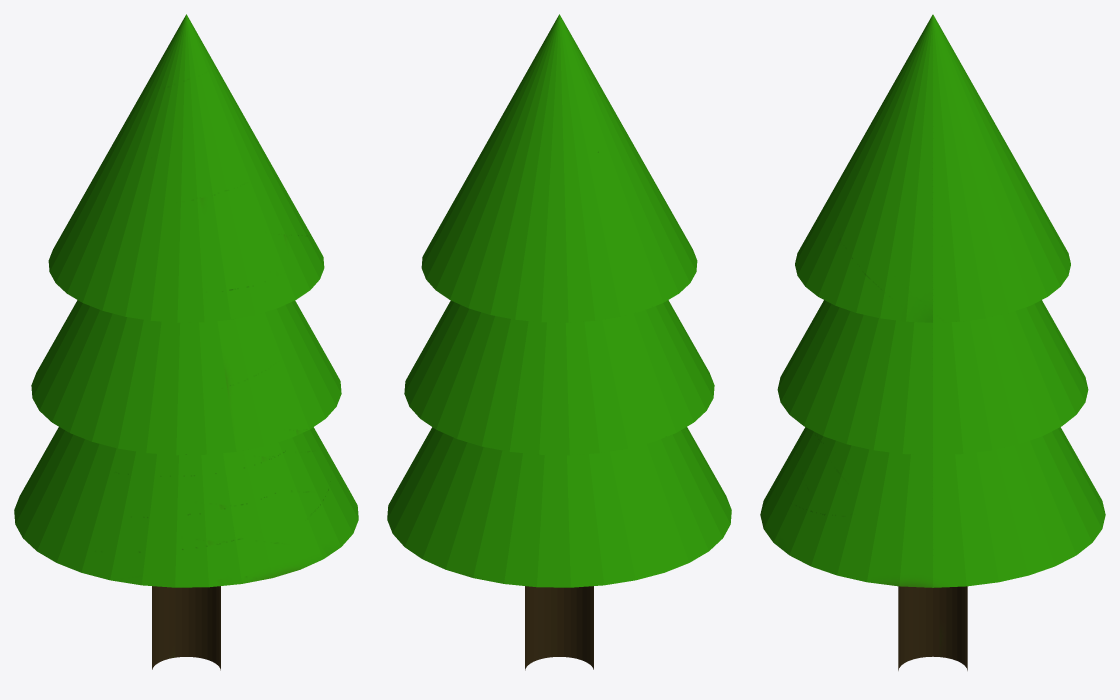
File: tree.dae
The picture shows the model from 3 angles, left to right: view 1: azimuth 30°, elevation 25°; view 2: azimuth 150°, elevation 25°; view 3: azimuth 270°, elevation 25°; orthographic projection.
Parts seen in each view (by area): view 1: Cone.002; view 2: Cone.002; view 3: Cone.002.
Part boxes in pixels (<box>): Cone.002: <box>14,14,358,670</box>; Cone.002: <box>387,14,731,670</box>; Cone.002: <box>760,14,1105,670</box>.
Size of the model in its own units: 10 by 10 by 21.
Materials: 1 (1 with a texture image).
